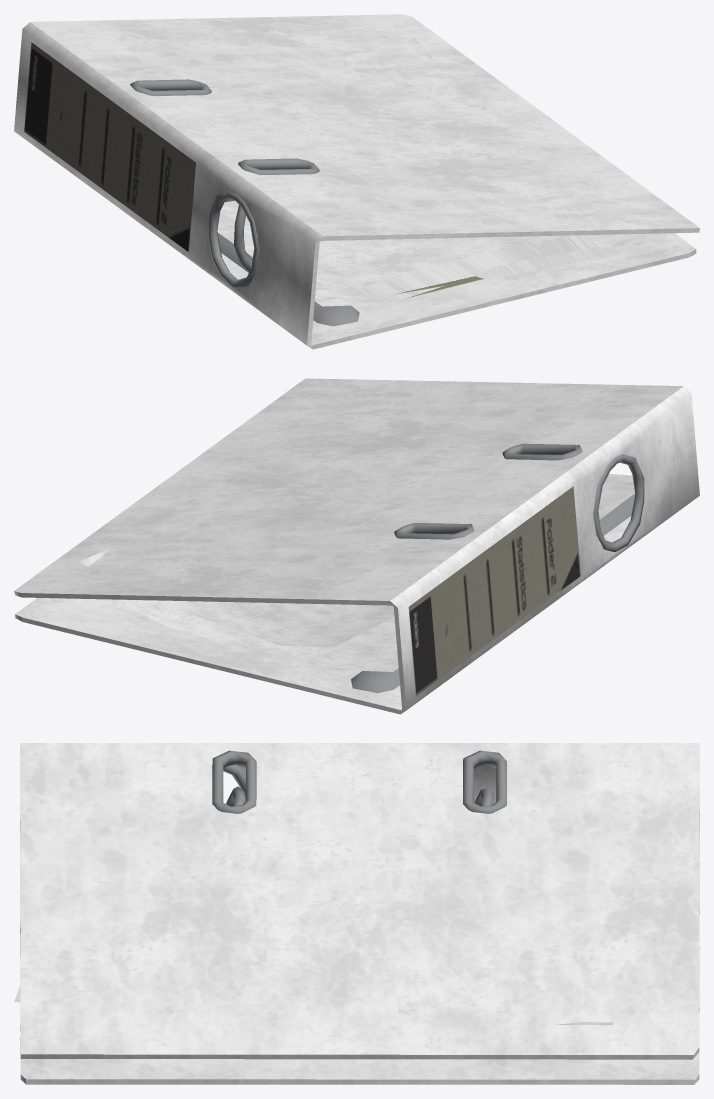
File: SM_Folder4.fbx
3 views of the same model, one above another, from view 1: azimuth 30°, elevation 25°; view 2: azimuth 150°, elevation 25°; view 3: azimuth 270°, elevation 25° (orthographic). The views are drawn at different scales.
Parts seen in each view (by area): view 1: SM_Folder4_LOD0; view 2: SM_Folder4_LOD0; view 3: SM_Folder4_LOD0.
Boxes of the visible parts, x1,y1,x2,y2 form: SM_Folder4_LOD0: (14, 14, 699, 349); SM_Folder4_LOD0: (14, 378, 699, 714); SM_Folder4_LOD0: (14, 743, 699, 1084).
Size of the model in its own units: 37.49 by 48.53 by 10.06.
1 material, 1 textured.
